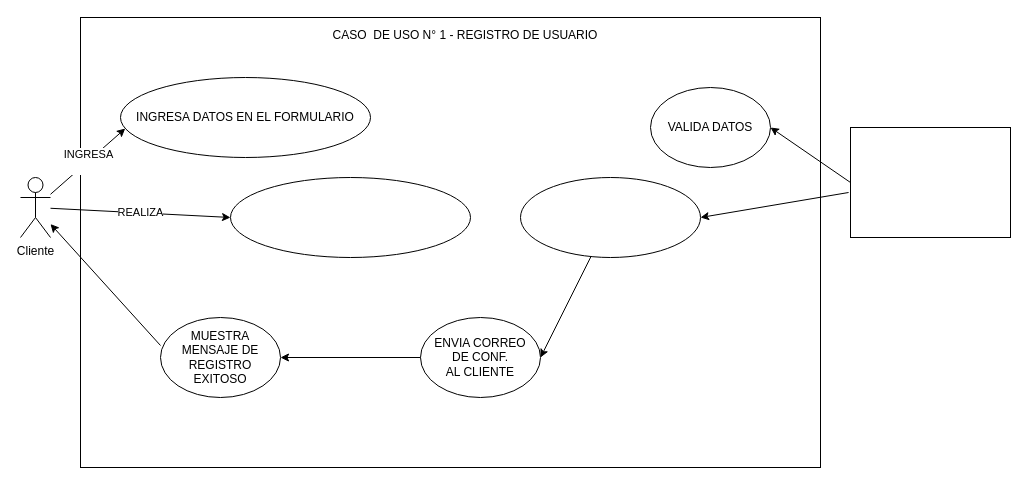
Some shapes in this 1028 by 485 pixel diagram are drawn without their labels. Each missing label, with the centre of its shape:
"CREA USUARIO NUEVO EN LA DB" belongs at (x=610, y=217).
"ENVIA FORMULARIO" belongs at (x=350, y=217).
"SISTEMA" belongs at (x=930, y=182).
